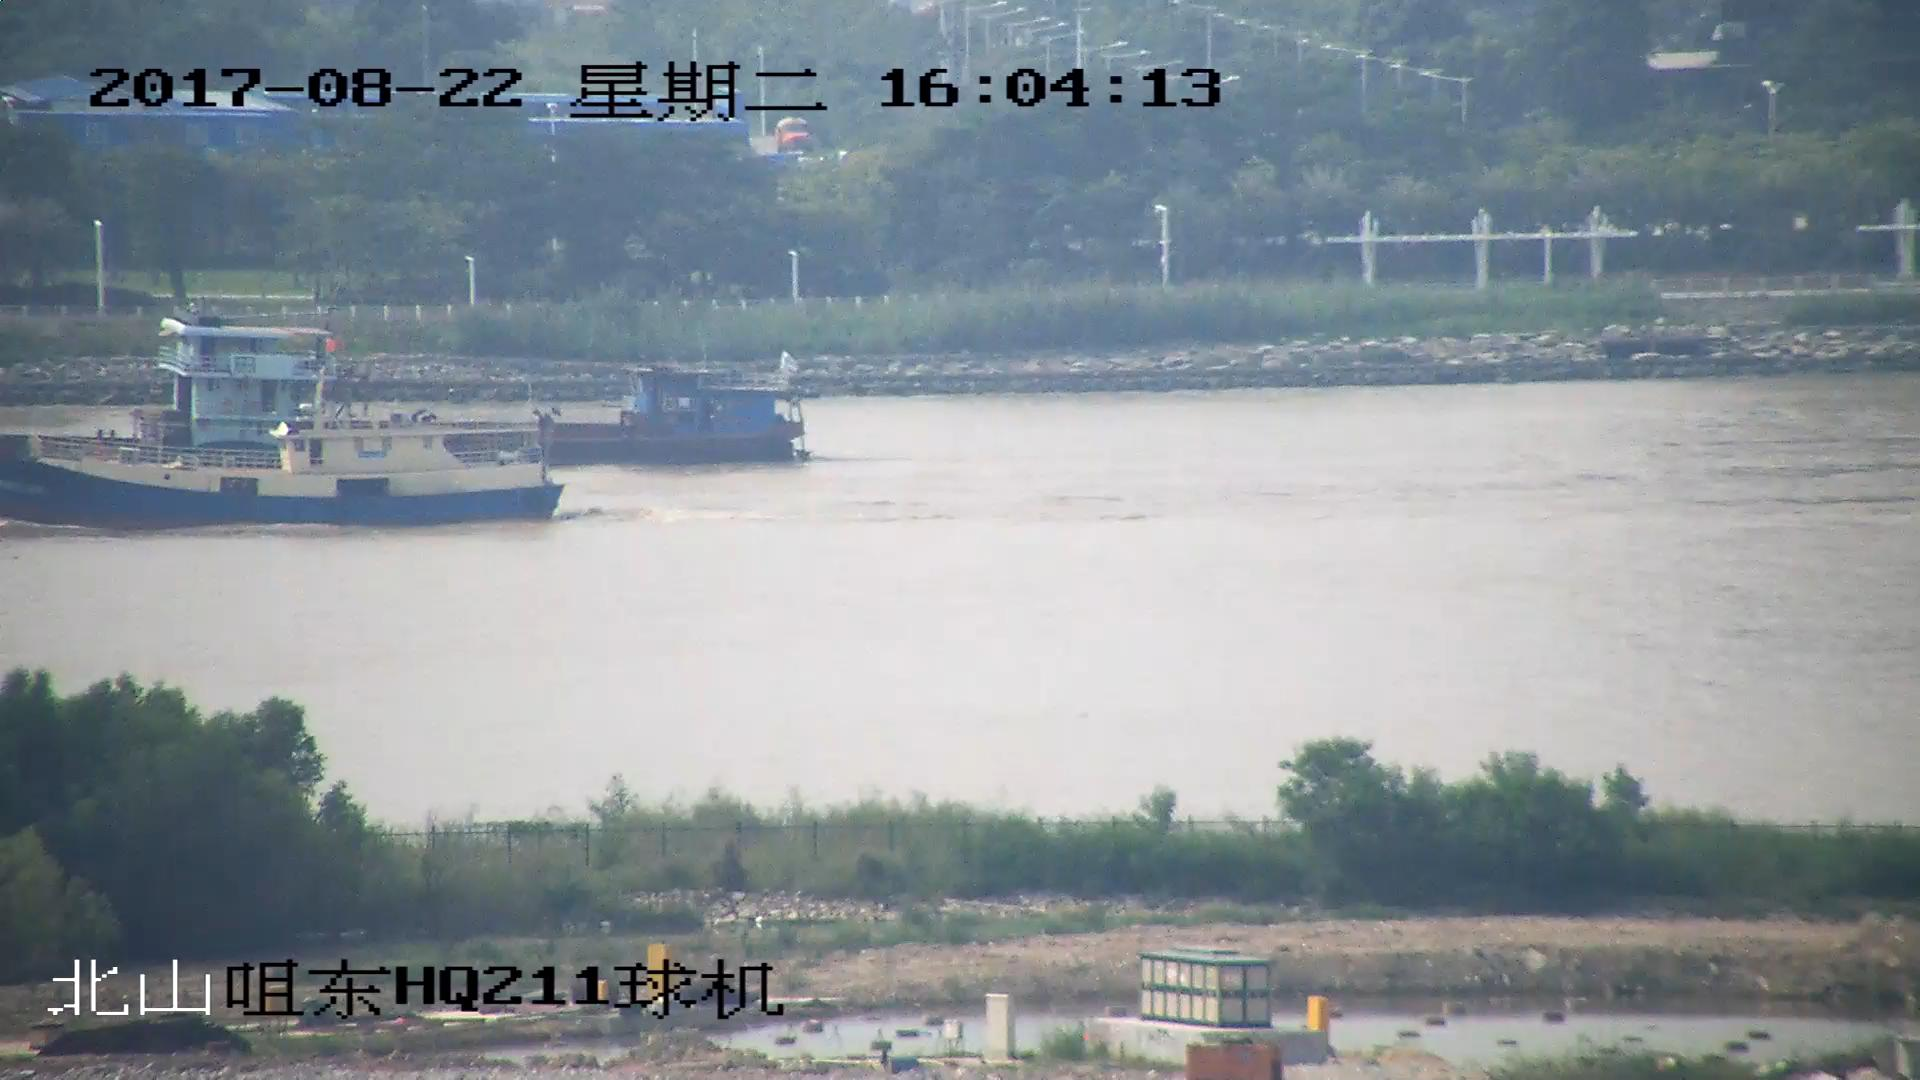bulk cargo carrier: (131, 365, 819, 478), (1, 306, 331, 482)
fishing boat: (1, 345, 568, 533)
